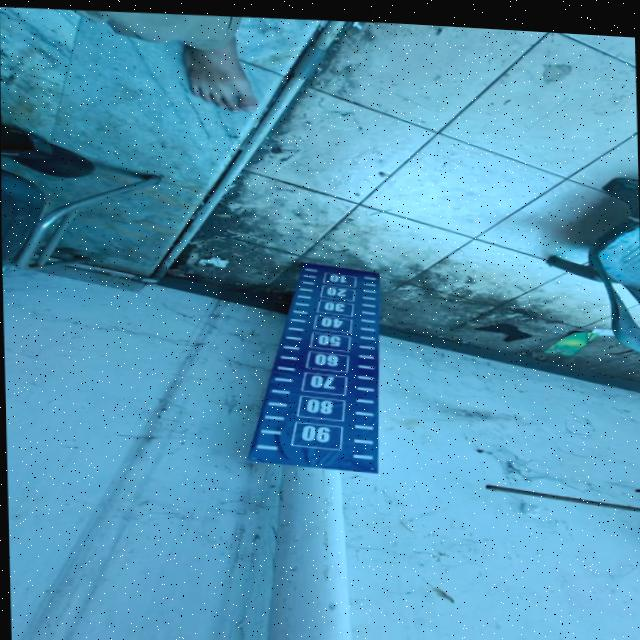water-meter: (226, 249, 403, 485)
